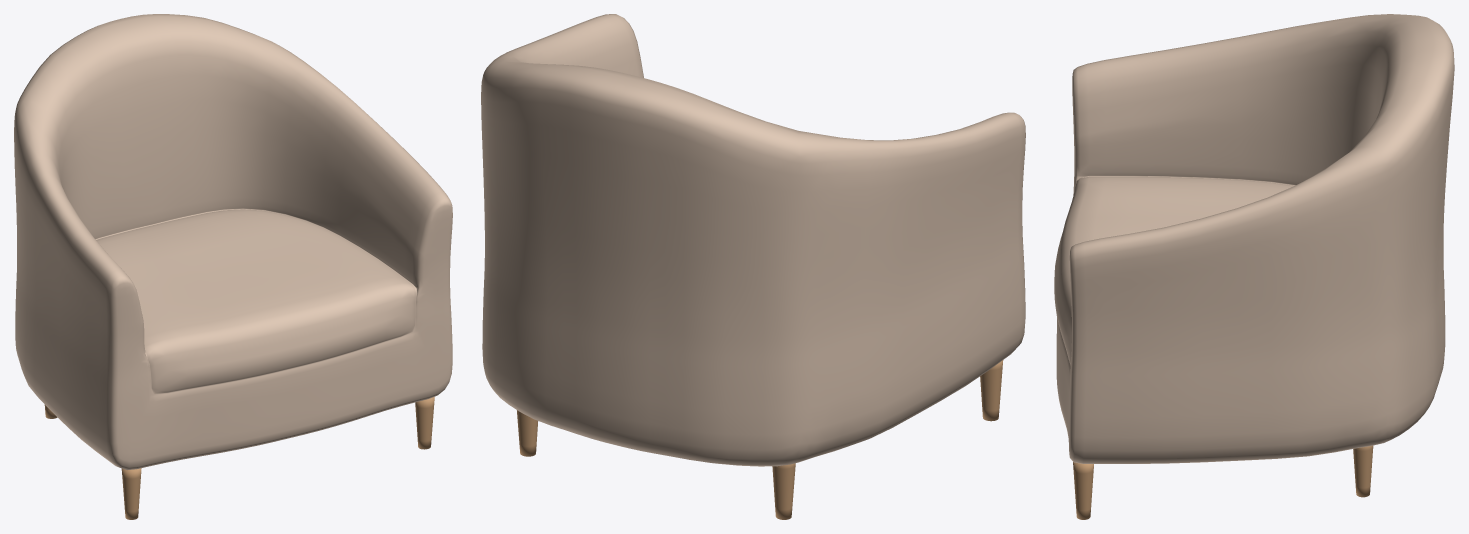
The model's file is sofa1#16.fbx.
The picture shows the model from 3 angles, left to right: view 1: azimuth 30°, elevation 25°; view 2: azimuth 150°, elevation 25°; view 3: azimuth 270°, elevation 25°; orthographic projection. The views are drawn at different scales.
Visible parts, largest first — view 1: Loft02, Object01; view 2: Loft02, Object01; view 3: Loft02, Object01.
Part boxes in pixels (x1,y1,x2,y2): Loft02: (14,14,452,470); Object01: (44,397,434,519); Loft02: (481,14,1025,466); Object01: (517,360,1003,519); Loft02: (1054,14,1454,463); Object01: (1073,445,1373,519).
Bounding box in the file's own units: 1.99 × 1.92 × 1.78.
